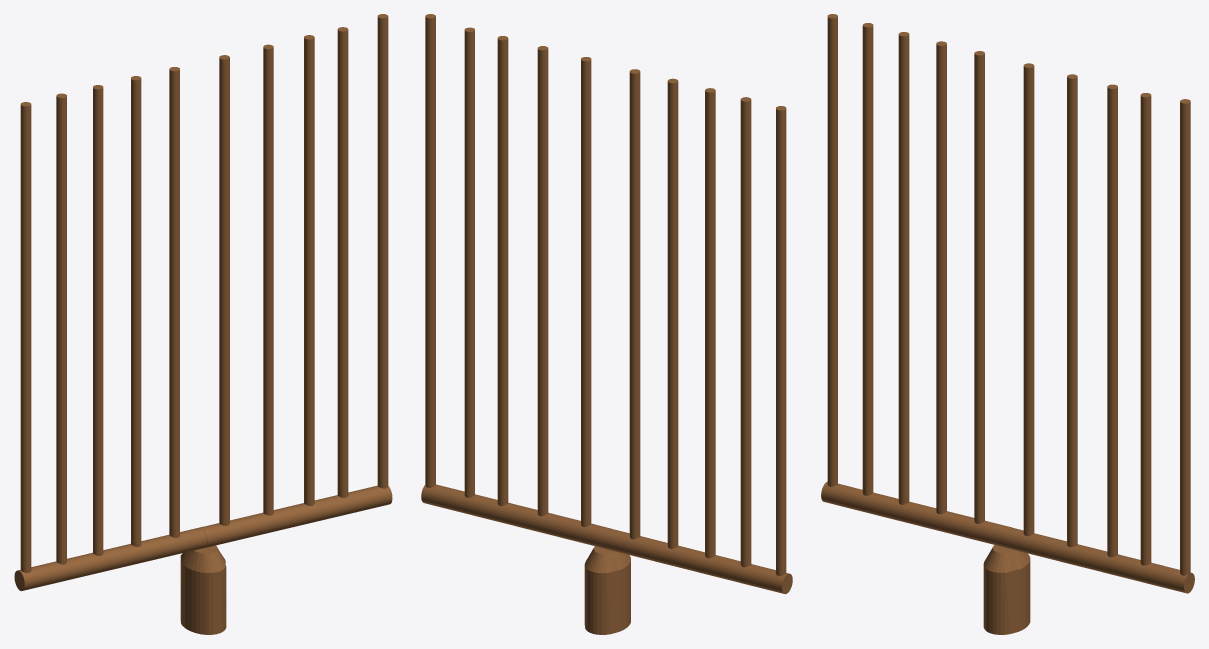
File: planar2D.dae
The picture shows the model from 3 angles, left to right: view 1: azimuth 30°, elevation 25°; view 2: azimuth 150°, elevation 25°; view 3: azimuth 330°, elevation 25°; orthographic projection.
Visible parts, largest first — view 1: Cylinder.012, Cylinder.005, Cylinder.011, Cylinder.004, Cylinder.009, Cylinder.008, Cylinder.010, Cylinder.003, Cylinder.007, Cylinder.006, Cylinder.001, Cylinder.002 (+1 smaller); view 2: Cylinder.007, Cylinder.004, Cylinder.006, Cylinder.009, Cylinder.010, Cylinder.012, Cylinder.011, Cylinder.003, Cylinder.008, Cylinder.005, Cylinder.001, Cylinder.002 (+1 smaller); view 3: Cylinder.008, Cylinder.004, Cylinder.003, Cylinder.011, Cylinder.012, Cylinder.006, Cylinder.010, Cylinder.009, Cylinder.005, Cylinder.007, Cylinder.002, Cylinder (+1 smaller).
Part boxes in pixels (<box>): Cylinder.012: <box>377,14,388,488</box>; Cylinder.005: <box>20,102,31,572</box>; Cylinder.011: <box>337,27,348,497</box>; Cylinder.004: <box>56,93,66,564</box>; Cylinder.009: <box>263,44,273,515</box>; Cylinder.008: <box>219,55,229,525</box>; Cylinder.010: <box>304,35,314,505</box>; Cylinder.003: <box>93,85,103,555</box>; Cylinder.007: <box>169,67,179,537</box>; Cylinder.006: <box>131,76,141,546</box>; Cylinder.001: <box>14,526,206,591</box>; Cylinder.002: <box>202,485,392,548</box>; Cylinder.007: <box>629,69,640,539</box>; Cylinder.004: <box>740,97,751,567</box>; Cylinder.006: <box>667,78,678,548</box>; Cylinder.009: <box>537,46,548,516</box>; Cylinder.010: <box>497,36,508,506</box>; Cylinder.012: <box>425,14,435,487</box>; Cylinder.011: <box>464,27,474,497</box>; Cylinder.003: <box>705,88,715,558</box>; Cylinder.008: <box>581,57,591,527</box>; Cylinder.005: <box>776,106,786,575</box>; Cylinder.001: <box>600,528,792,594</box>; Cylinder.002: <box>421,484,610,547</box>; Cylinder.008: <box>1023,63,1034,536</box>; Cylinder.004: <box>862,23,873,495</box>; Cylinder.003: <box>898,32,909,504</box>; Cylinder.011: <box>1140,93,1151,565</box>; Cylinder.012: <box>1180,99,1190,585</box>; Cylinder.006: <box>936,41,946,514</box>; Cylinder.010: <box>1107,84,1117,557</box>; Cylinder.009: <box>1067,74,1077,547</box>; Cylinder.005: <box>827,14,837,486</box>; Cylinder.007: <box>974,51,984,523</box>; Cylinder.002: <box>1001,527,1194,593</box>; Cylinder: <box>983,545,1030,634</box>.
Bounding box in the file's own units: 1.99 × 0.2661 × 2.94.
